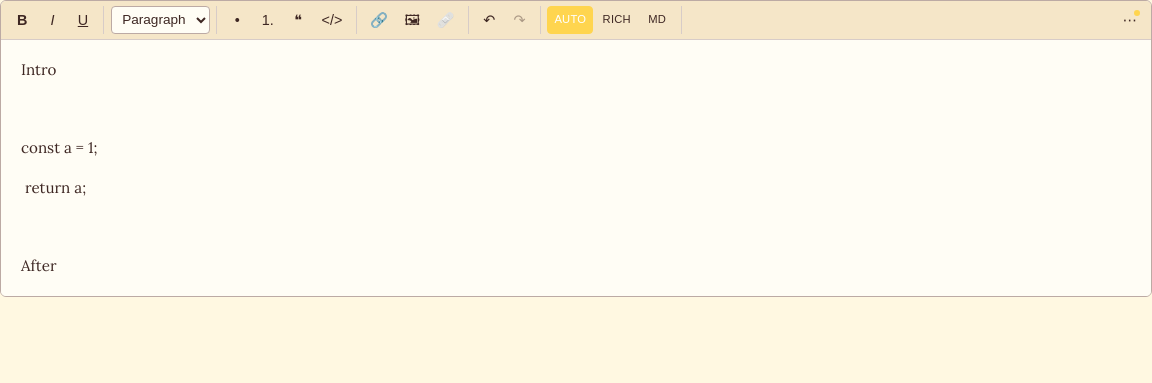
Test case: RichTextEditor Copilot and Markdown-card repairs › offers to render a just-pasted Copilot answer's code lines as a code block
The width and height of the screenshot is (1152, 383).
Click the button "⋯" at (1130, 20), box [1115,6,1144,34]
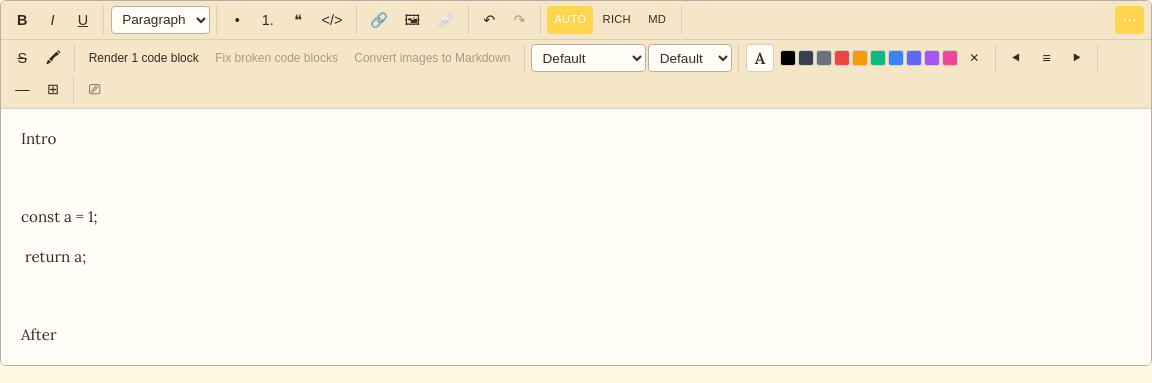
Expected: the button "⋯" is expanded, [1115,6,1144,34]
Click the button "Render 1 code block" at (144, 58), box [82,44,206,72]
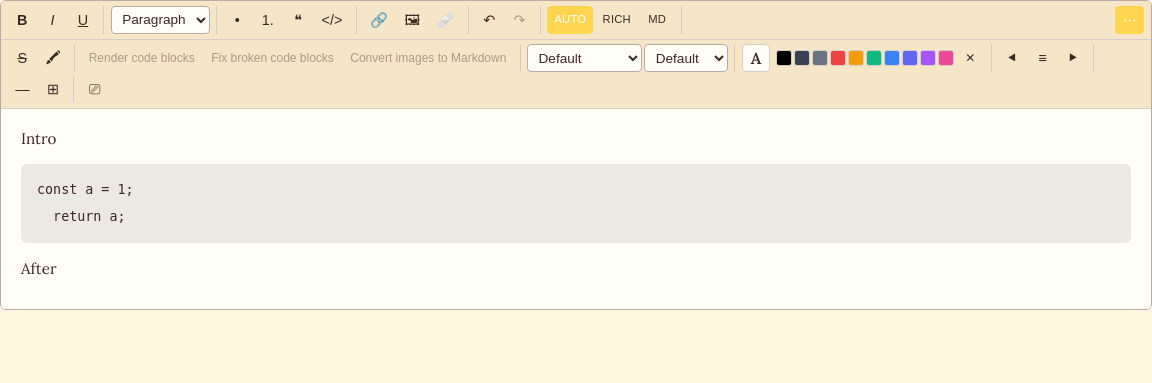
Expected: the field shows "Intro", [1,109,1151,309]
Expected: the button "Render code blocks" is disabled, [82,44,202,72]
